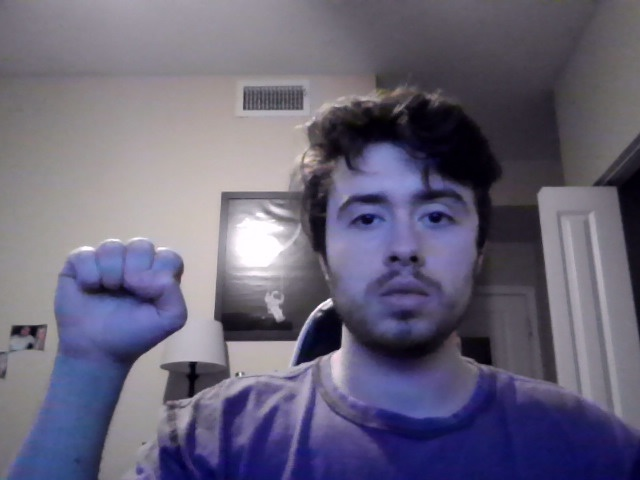s: (53, 236, 188, 404)
